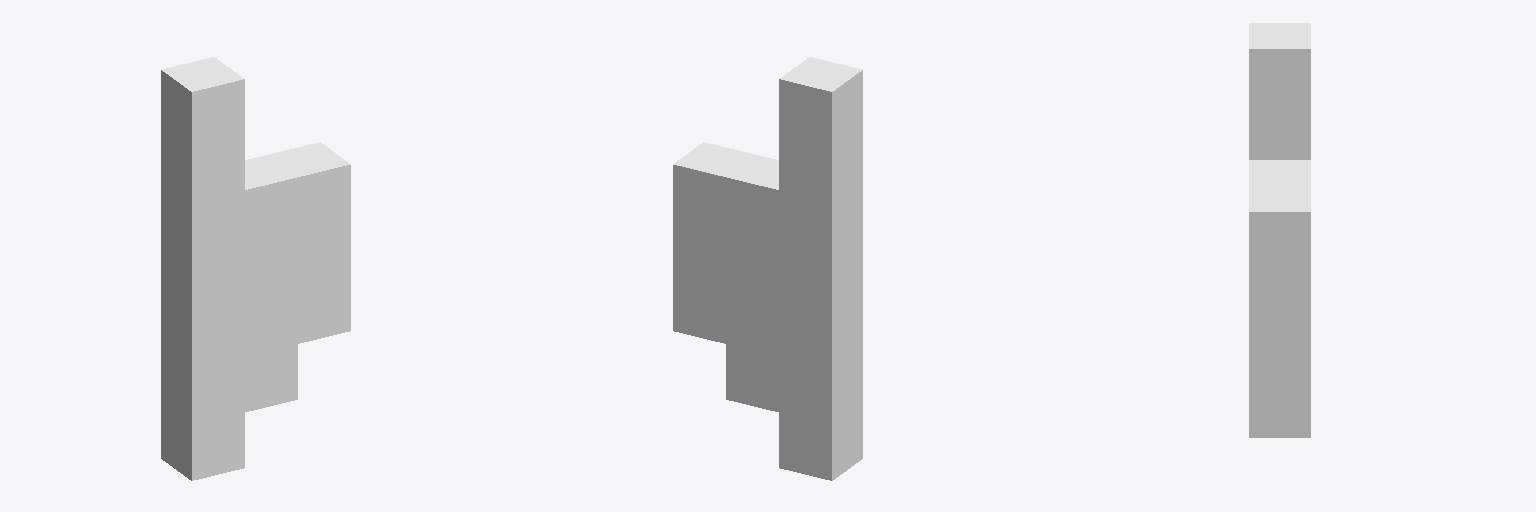
File: YellowHouseParts-23.obj
3 renders of one model, left to right at view 1: azimuth 30°, elevation 25°; view 2: azimuth 150°, elevation 25°; view 3: azimuth 270°, elevation 25°, orthographic.
Parts seen in each view (by area): view 1: object 1; view 2: object 1; view 3: object 1.
Part boxes in pixels (x1,y1,x2,y2): object 1: (161,57,350,480); object 1: (673,57,862,480); object 1: (1249,23,1310,437).
Size of the model in its own units: 0.3 by 0.7 by 0.1.